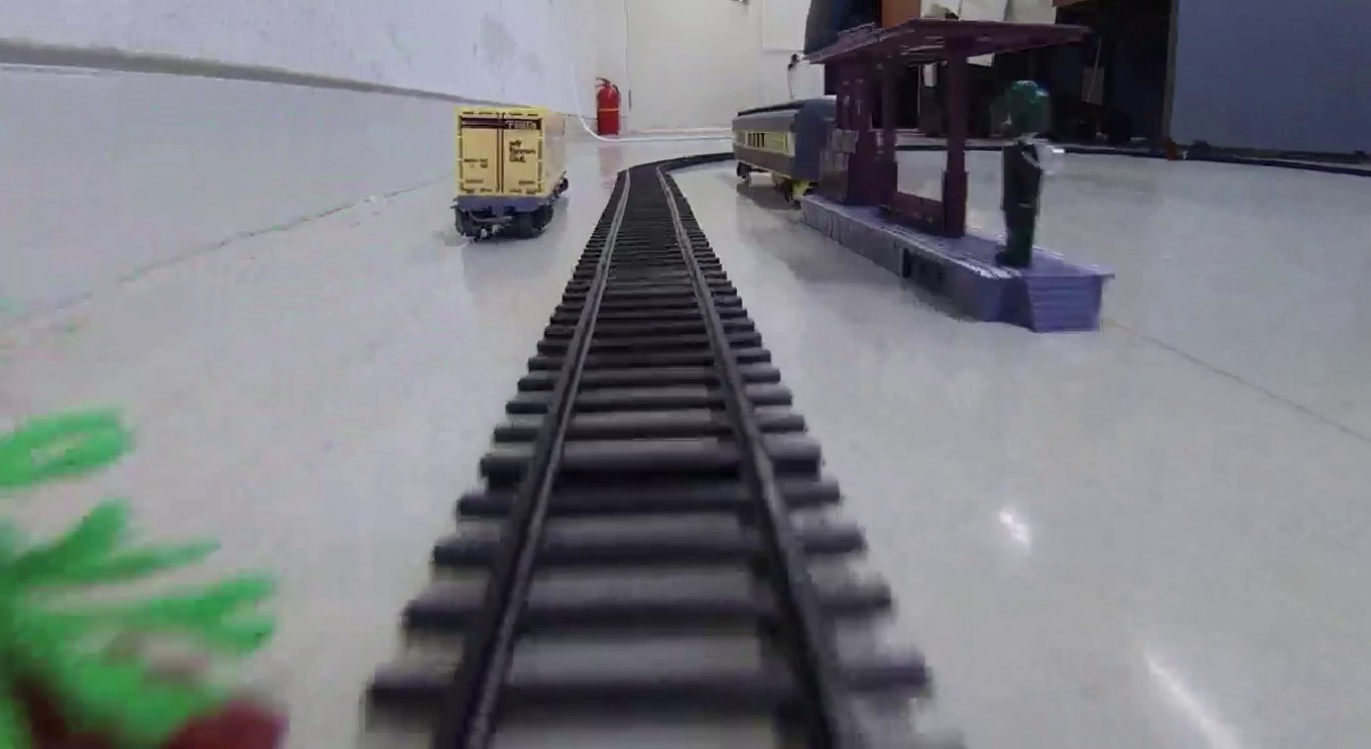people: (986, 80, 1058, 269)
